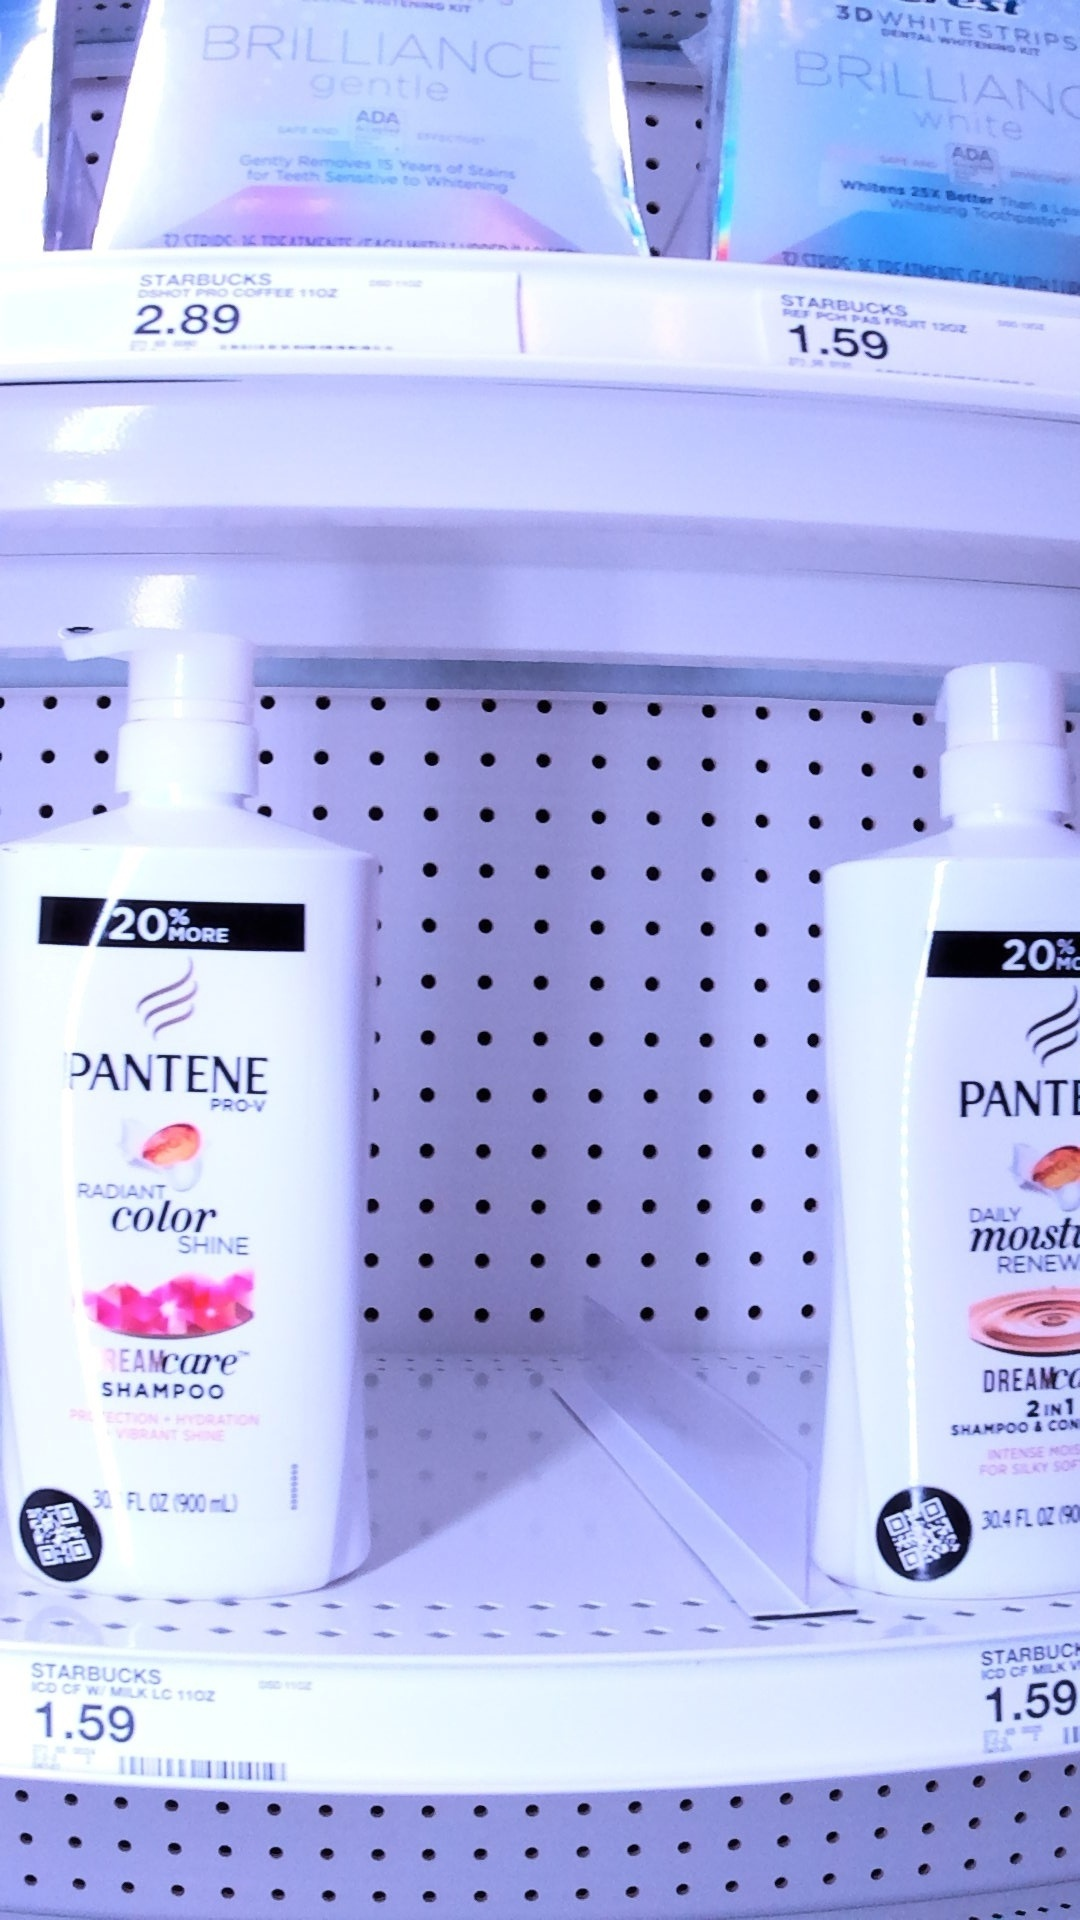ptag: (22, 1648, 334, 1795), (753, 269, 1055, 406), (123, 257, 469, 369), (971, 1636, 1080, 1764)
